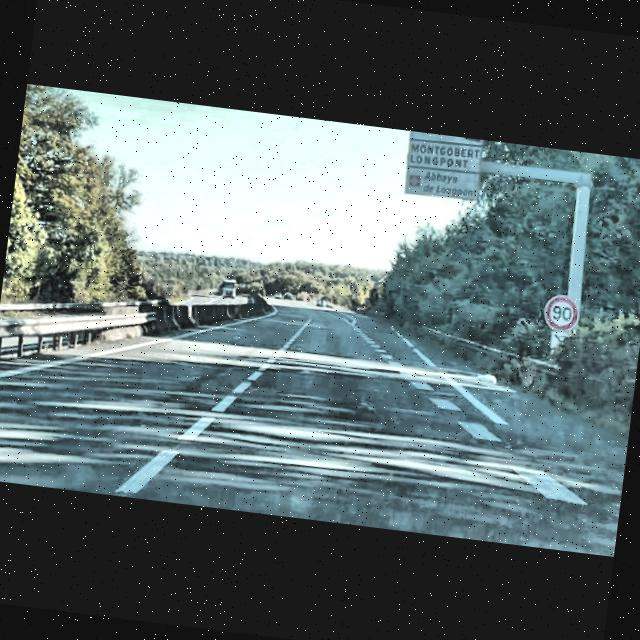speed_90: (544, 294, 580, 333)
